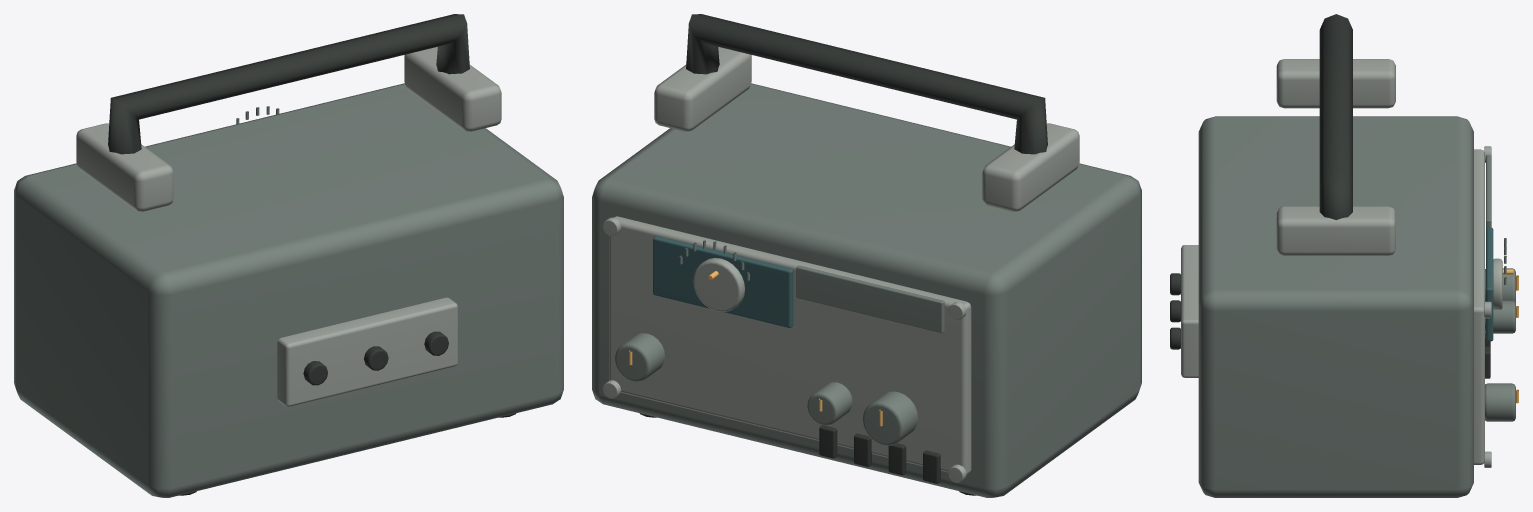
File: E27_AnalogReceiver.fbx
3 views of the same model, side by side, from view 1: azimuth 30°, elevation 25°; view 2: azimuth 150°, elevation 25°; view 3: azimuth 270°, elevation 25° (orthographic). The views are drawn at different scales.
Visible parts, largest first — view 1: E27_AnalogReceiver_PaintedMetal, E27_AnalogReceiver_Steel, E27_AnalogReceiver_Rubber; view 2: E27_AnalogReceiver_PaintedMetal, E27_AnalogReceiver_Steel, E27_AnalogReceiver_Rubber, E27_AnalogReceiver_Glass; view 3: E27_AnalogReceiver_PaintedMetal, E27_AnalogReceiver_Steel, E27_AnalogReceiver_Rubber, E27_AnalogReceiver_Glass.
Part boxes in pixels (x1,y1,x2,y2): E27_AnalogReceiver_PaintedMetal: [14, 83, 563, 497]; E27_AnalogReceiver_Steel: [76, 46, 501, 406]; E27_AnalogReceiver_Rubber: [108, 14, 515, 495]; E27_AnalogReceiver_PaintedMetal: [592, 83, 1141, 497]; E27_AnalogReceiver_Steel: [602, 46, 1079, 482]; E27_AnalogReceiver_Rubber: [640, 14, 1047, 495]; E27_AnalogReceiver_Glass: [653, 236, 793, 327]; E27_AnalogReceiver_PaintedMetal: [1198, 116, 1515, 497]; E27_AnalogReceiver_Steel: [1181, 59, 1502, 467]; E27_AnalogReceiver_Rubber: [1170, 14, 1490, 378]; E27_AnalogReceiver_Glass: [1486, 227, 1493, 341].
Bounding box in the file's own units: 48 × 39.27 × 37.97.
